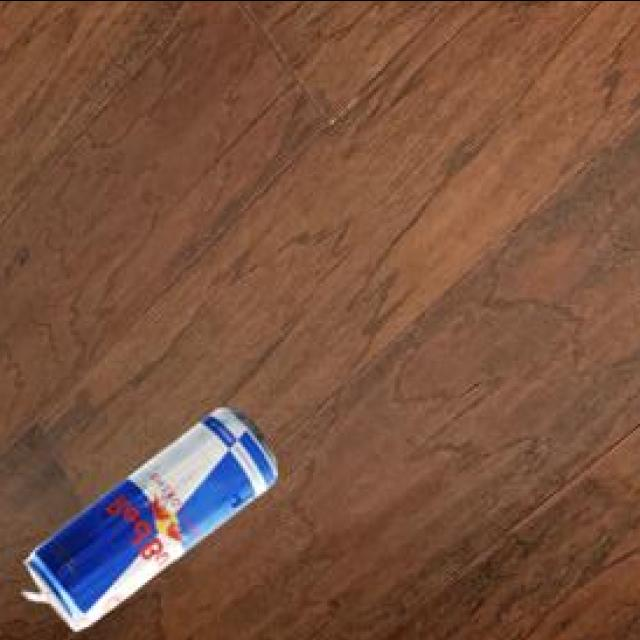logam: (20, 405, 274, 625)
